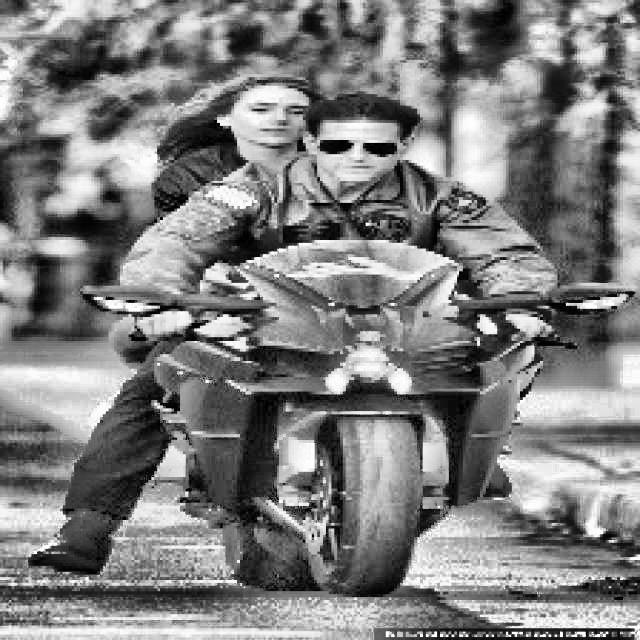motorcycle: (57, 239, 635, 600)
